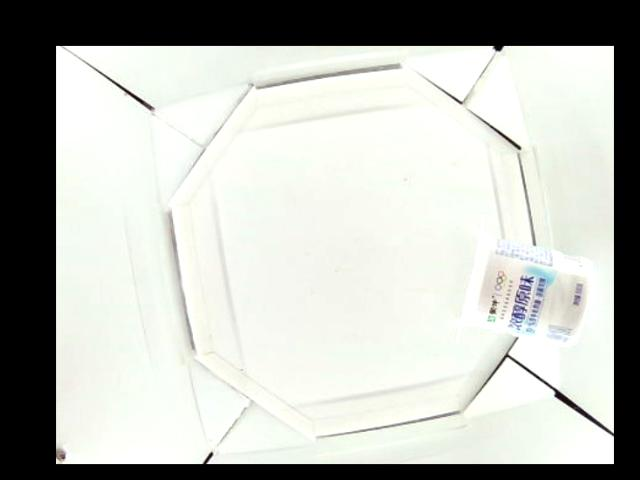Cup: (455, 214, 593, 348)
